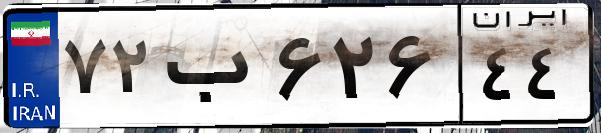2: (330, 28, 385, 110), (110, 28, 158, 98)
4: (475, 38, 525, 113), (525, 38, 570, 115)
6: (270, 28, 330, 110), (385, 28, 445, 110)
7: (57, 26, 110, 100)
ب: (158, 20, 270, 120)
